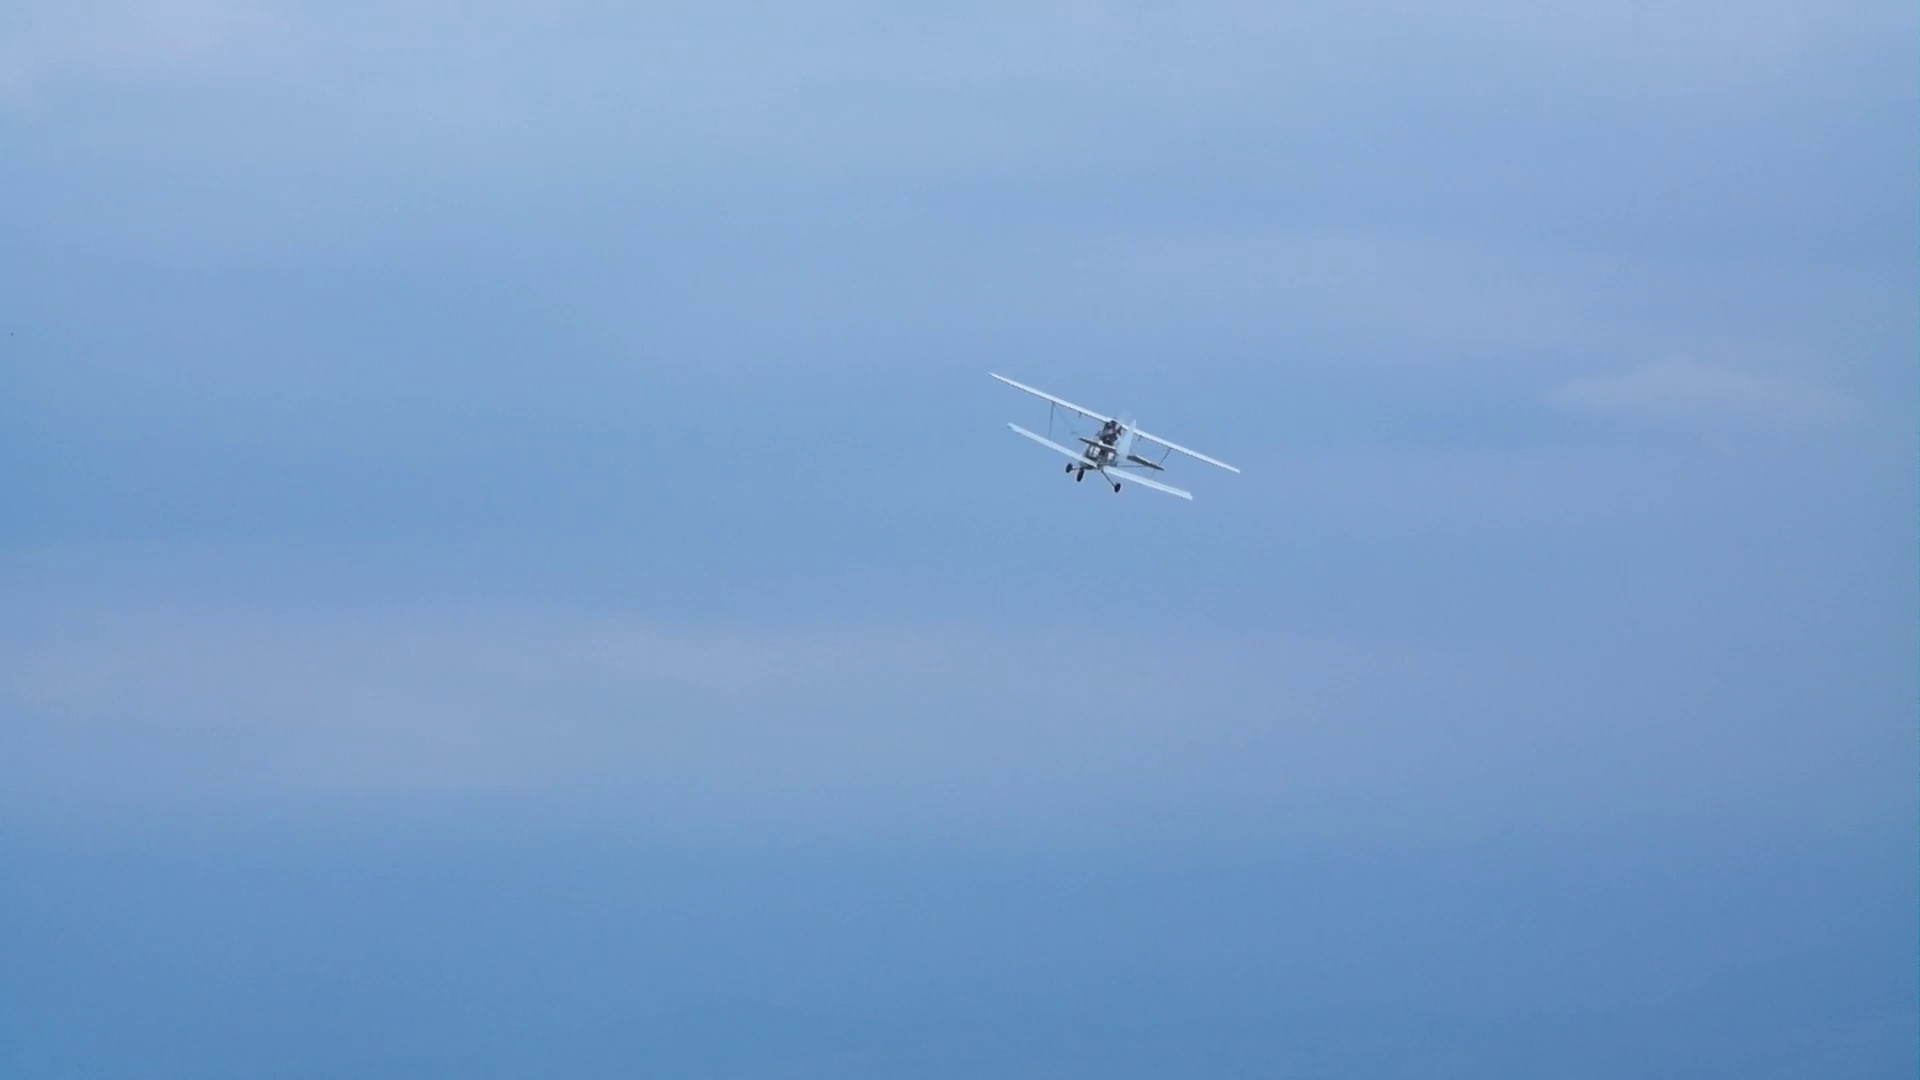plane: (992, 371, 1240, 502)
